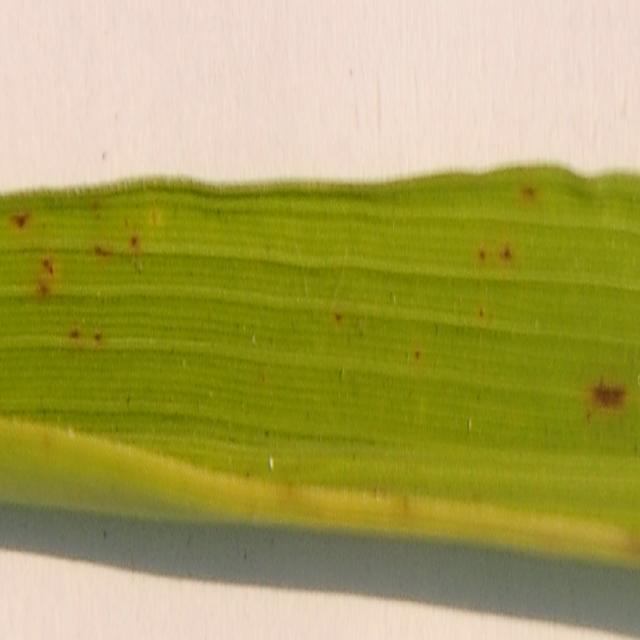brown spot: (586, 344, 640, 433), (31, 236, 58, 304), (85, 226, 122, 269), (495, 233, 519, 283), (64, 308, 81, 361), (516, 178, 540, 214), (126, 212, 142, 266), (8, 204, 32, 239), (90, 310, 106, 362)
